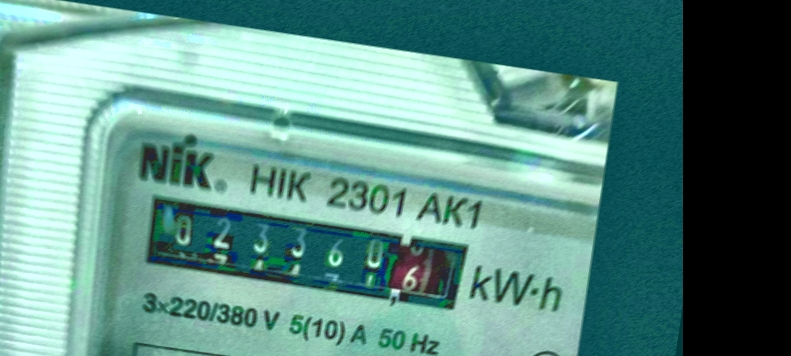0: (170, 210, 197, 248), (362, 234, 389, 272)
2: (210, 214, 236, 252)
3: (249, 220, 274, 257), (288, 224, 310, 260)
6: (324, 233, 348, 269), (399, 259, 421, 294)
screen: (128, 182, 489, 331)
